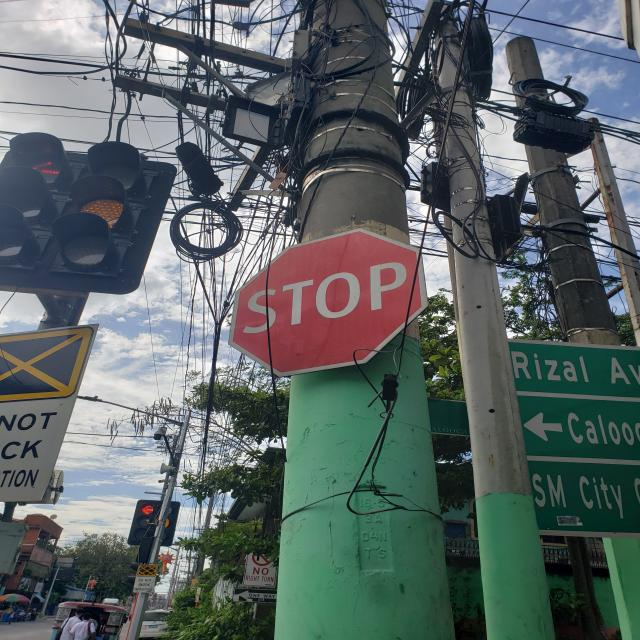stop-sign: (227, 228, 429, 377)
